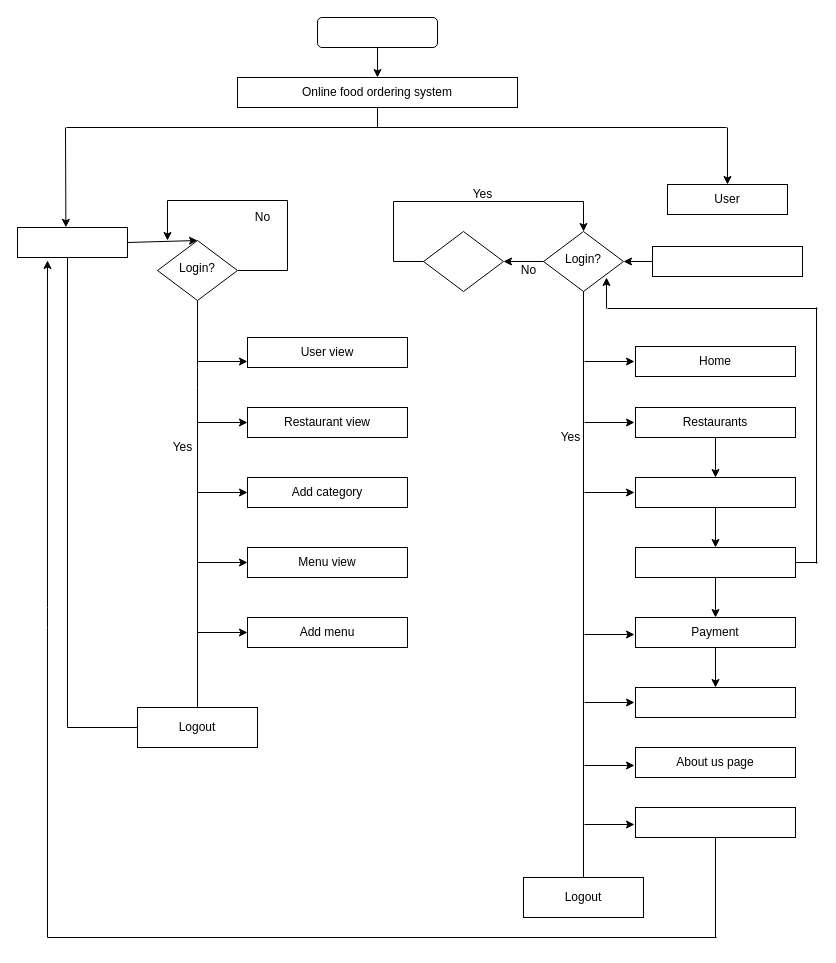
Image size: 836x963. Some labels were removed from this diagram. Here are the shapes that lost their labels. From the top down, the centre of each, then its label:
At (x=377, y=32): "Start".
At (x=72, y=242): "Admin".
At (x=463, y=261): "Register".
At (x=727, y=261): "Show item".
At (x=715, y=492): "Item view".
At (x=715, y=562): "Add to cart".
At (x=715, y=702): "My orders".
At (x=715, y=822): "Admin panel".
